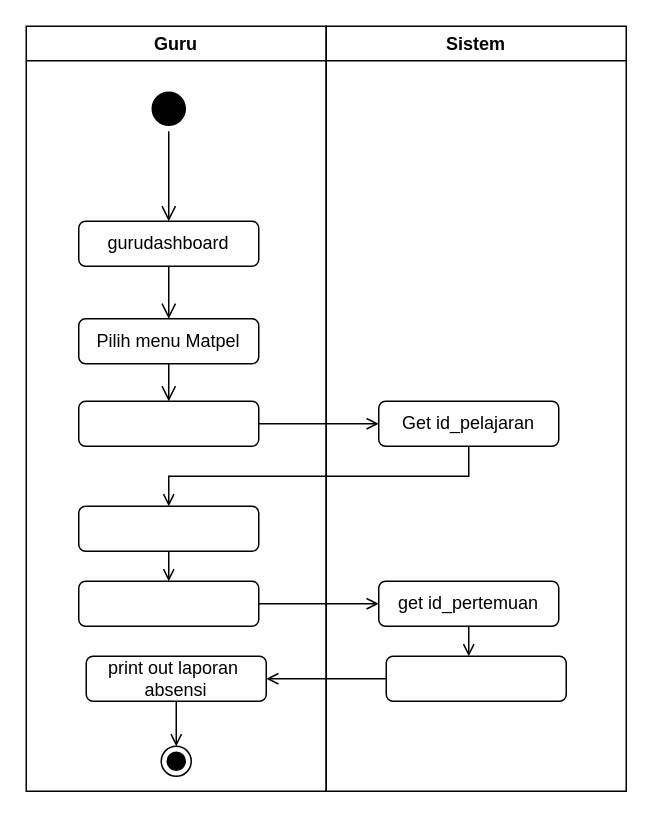
Some shapes in this 653 by 818 pixel diagram are drawn without their labels. Here are the shapes that lost their labels. From the top down, the centre of each, then its label:
At (168,423): "Pilih Matpel".
At (168,528): "List Pertemuan pelajaran".
At (168,603): "Pilih Lihat Absensi siswa".
At (475,678): "cetak laporan absensi".
